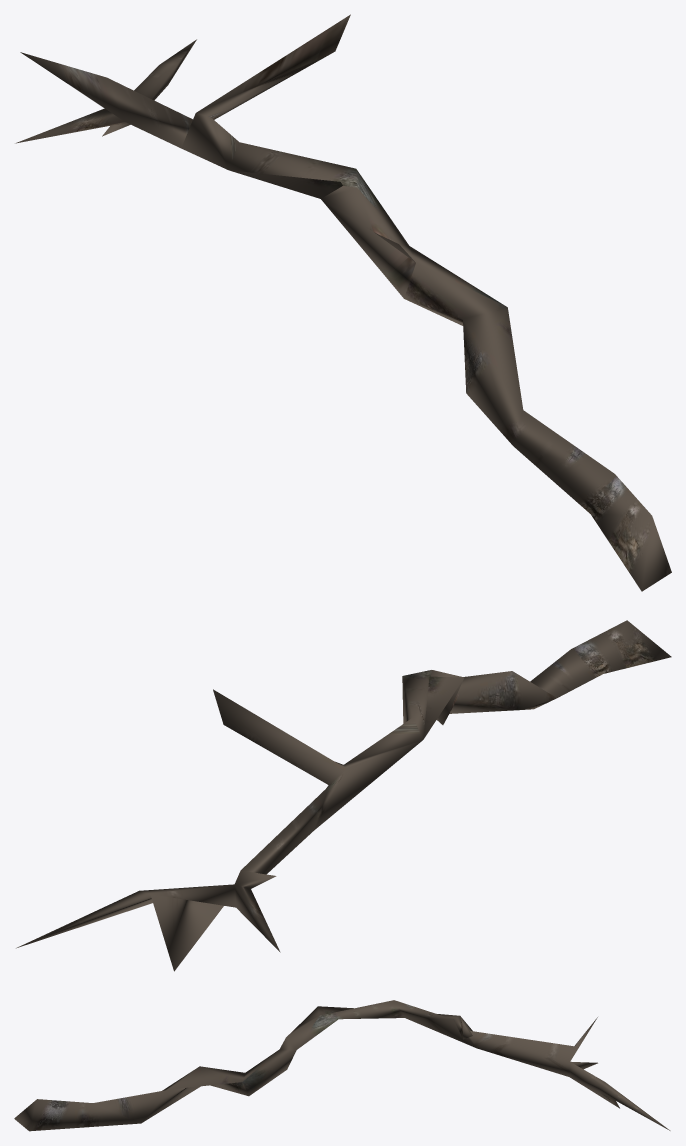
File: dry_branches_medium_01_1k_a.obj
3 views of the same model, one above another, from view 1: azimuth 30°, elevation 25°; view 2: azimuth 150°, elevation 25°; view 3: azimuth 270°, elevation 25° (orthographic). The views are drawn at different scales.
Visible parts, largest first — view 1: dry_branches_medium_01_a; view 2: dry_branches_medium_01_a; view 3: dry_branches_medium_01_a.
Part boxes in pixels (x1,y1,x2,y2): dry_branches_medium_01_a: (15, 14, 671, 591); dry_branches_medium_01_a: (16, 620, 671, 971); dry_branches_medium_01_a: (14, 1000, 670, 1131).
Bounding box in the file's own units: 0.3033 × 0.2762 × 1.29.
